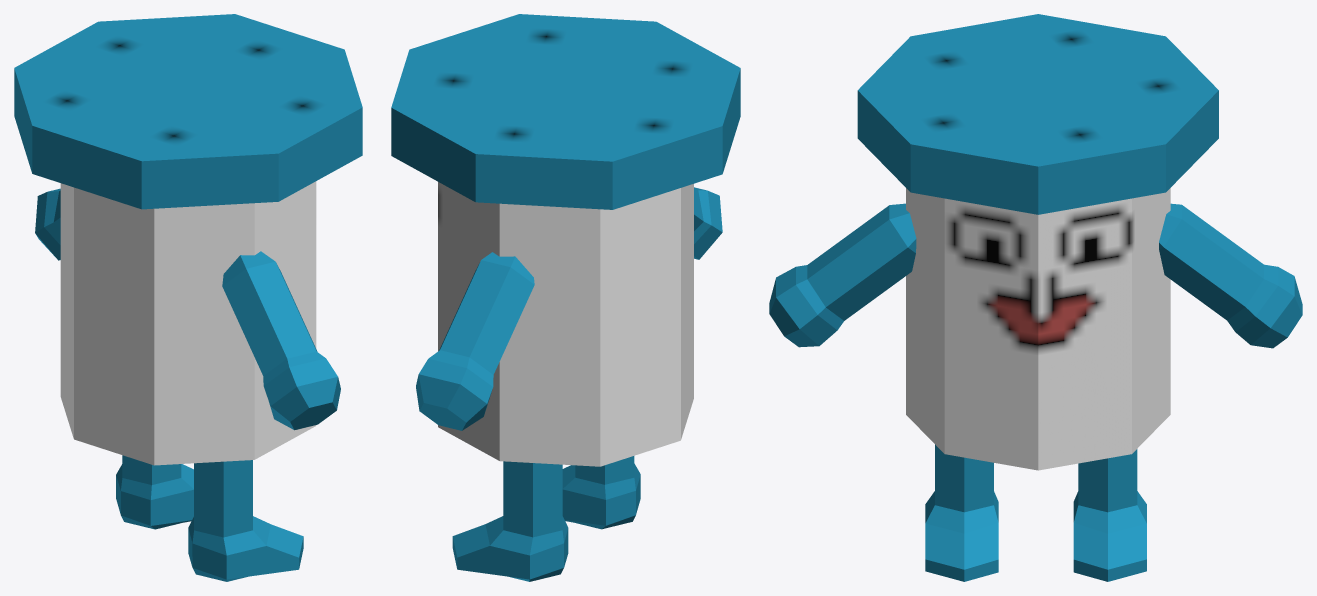
File: Salt Man.glb
The picture shows the model from 3 angles, left to right: view 1: azimuth 30°, elevation 25°; view 2: azimuth 150°, elevation 25°; view 3: azimuth 270°, elevation 25°; orthographic projection.
Parts seen in each view (by area): view 1: Salt Man; view 2: Salt Man; view 3: Salt Man.
Part boxes in pixels (bbox=[...]): Salt Man: bbox=[14, 14, 362, 581]; Salt Man: bbox=[391, 14, 740, 581]; Salt Man: bbox=[769, 14, 1302, 581].
Size of the model in its own units: 0.7305 by 1.01 by 1.08.
Materials: 1 (1 with a texture image).
